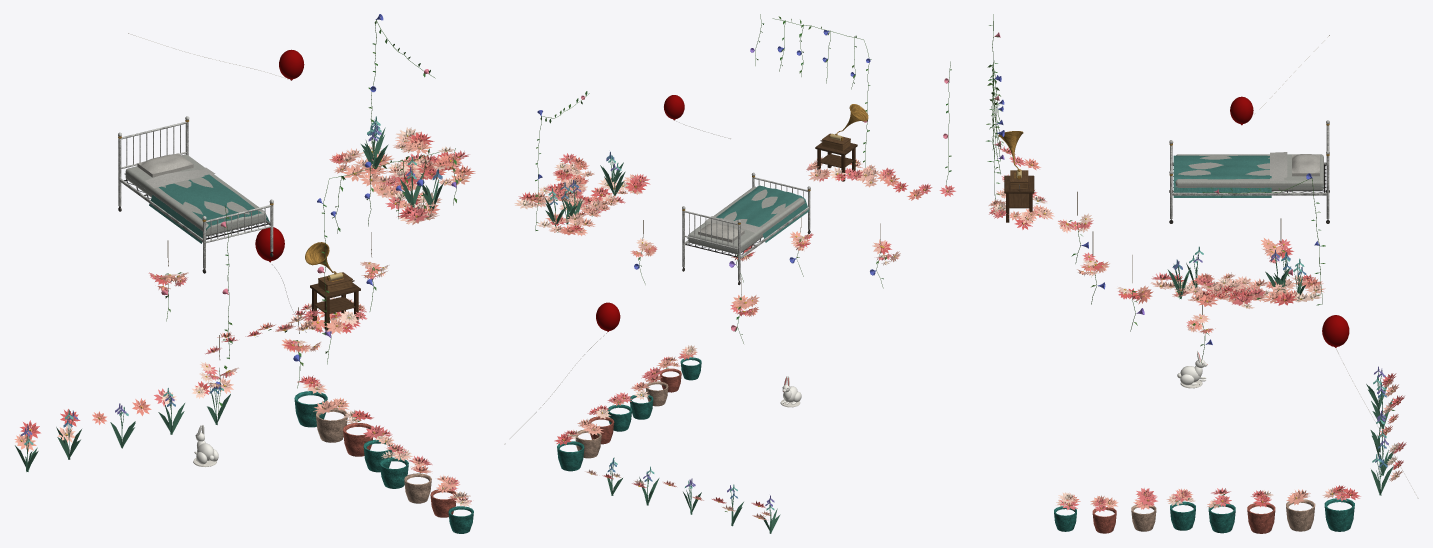
The model's file is dream.glb.
3 views of the same model, side by side, from view 1: azimuth 30°, elevation 25°; view 2: azimuth 150°, elevation 25°; view 3: azimuth 270°, elevation 25° (orthographic). The views are drawn at different scales.
Parts seen in each view (by area): view 1: UD_Dream_Flowers_ShopFloor, UD_Dream_HospitalBed, UD_Dream_Flowers_Tokonoma, UD_Dream_Flowers_Window, UD_Dream_Flowers_ShopHanging, UD_Dream_Phonograph, UD_Dream_Balloon_Stair, UD_Dream_Balloon_UpperCeiling, UD_Dream_RabbitStatue; view 2: UD_Dream_Flowers_ShopFloor, UD_Dream_HospitalBed, UD_Dream_Flowers_Tokonoma, UD_Dream_Flowers_Window, UD_Dream_Flowers_ShopHanging, UD_Dream_Phonograph, UD_Dream_Balloon_Stair; view 3: UD_Dream_Flowers_ShopFloor, UD_Dream_HospitalBed, UD_Dream_Flowers_Tokonoma, UD_Dream_Flowers_ShopHanging, UD_Dream_Flowers_Window, UD_Dream_Phonograph, UD_Dream_Balloon_Stair, UD_Dream_RabbitStatue, UD_Dream_Balloon_UpperCeiling.
Boxes of the visible parts, x1,y1,x2,y2 form: UD_Dream_Flowers_ShopFloor: (14, 375, 473, 533); UD_Dream_HospitalBed: (118, 116, 273, 273); UD_Dream_Flowers_Tokonoma: (329, 14, 475, 224); UD_Dream_Flowers_Window: (205, 148, 458, 358); UD_Dream_Flowers_ShopHanging: (148, 232, 389, 414); UD_Dream_Phonograph: (305, 242, 360, 330); UD_Dream_Balloon_Stair: (255, 227, 306, 332); UD_Dream_Balloon_UpperCeiling: (128, 33, 304, 80); UD_Dream_RabbitStatue: (193, 425, 218, 466); UD_Dream_Flowers_ShopFloor: (554, 345, 780, 533); UD_Dream_HospitalBed: (682, 172, 810, 284); UD_Dream_Flowers_Tokonoma: (514, 91, 650, 235); UD_Dream_Flowers_Window: (750, 14, 955, 200); UD_Dream_Flowers_ShopHanging: (630, 217, 900, 343); UD_Dream_Phonograph: (815, 104, 868, 181); UD_Dream_Balloon_Stair: (504, 302, 620, 444); UD_Dream_Flowers_ShopFloor: (1054, 366, 1406, 533); UD_Dream_HospitalBed: (1169, 120, 1329, 223); UD_Dream_Flowers_Tokonoma: (1150, 173, 1325, 308); UD_Dream_Flowers_ShopHanging: (1058, 191, 1293, 362); UD_Dream_Flowers_Window: (986, 14, 1054, 229); UD_Dream_Phonograph: (998, 131, 1034, 222); UD_Dream_Balloon_Stair: (1322, 315, 1418, 498); UD_Dream_RabbitStatue: (1177, 351, 1207, 388); UD_Dream_Balloon_UpperCeiling: (1230, 35, 1329, 125).
Bounding box in the file's own units: 5.16 × 5.75 × 5.53.
Materials: 17 (9 with a texture image).
